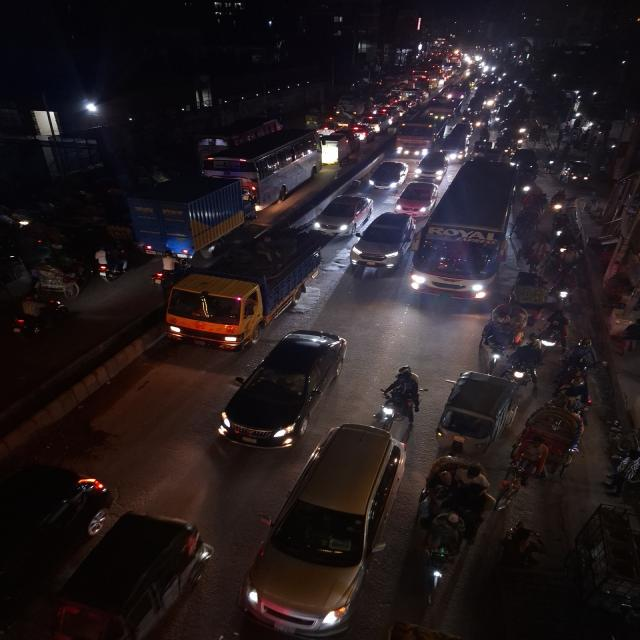bus: (412, 160, 523, 308), (204, 127, 323, 205)
car: (244, 422, 406, 640), (0, 461, 113, 639), (210, 326, 352, 452), (351, 209, 416, 275), (313, 192, 373, 236), (366, 158, 409, 192), (394, 180, 437, 214), (415, 151, 449, 181)
cng: (38, 512, 215, 638), (433, 369, 517, 457), (560, 157, 594, 187), (474, 138, 491, 158)
motorcycle: (373, 362, 423, 428), (7, 296, 69, 340), (506, 336, 548, 390), (558, 370, 596, 414), (562, 338, 599, 382), (148, 252, 189, 288), (538, 308, 572, 350), (90, 248, 126, 282), (552, 274, 576, 309), (549, 188, 569, 218)
pedestrian: (502, 519, 544, 567)
rickshaw: (414, 452, 490, 602), (498, 402, 586, 512), (433, 368, 516, 456), (478, 302, 526, 369), (27, 256, 86, 298), (508, 270, 551, 318), (619, 314, 640, 358)
truck: (161, 232, 323, 350), (126, 178, 252, 258), (394, 117, 440, 159)
